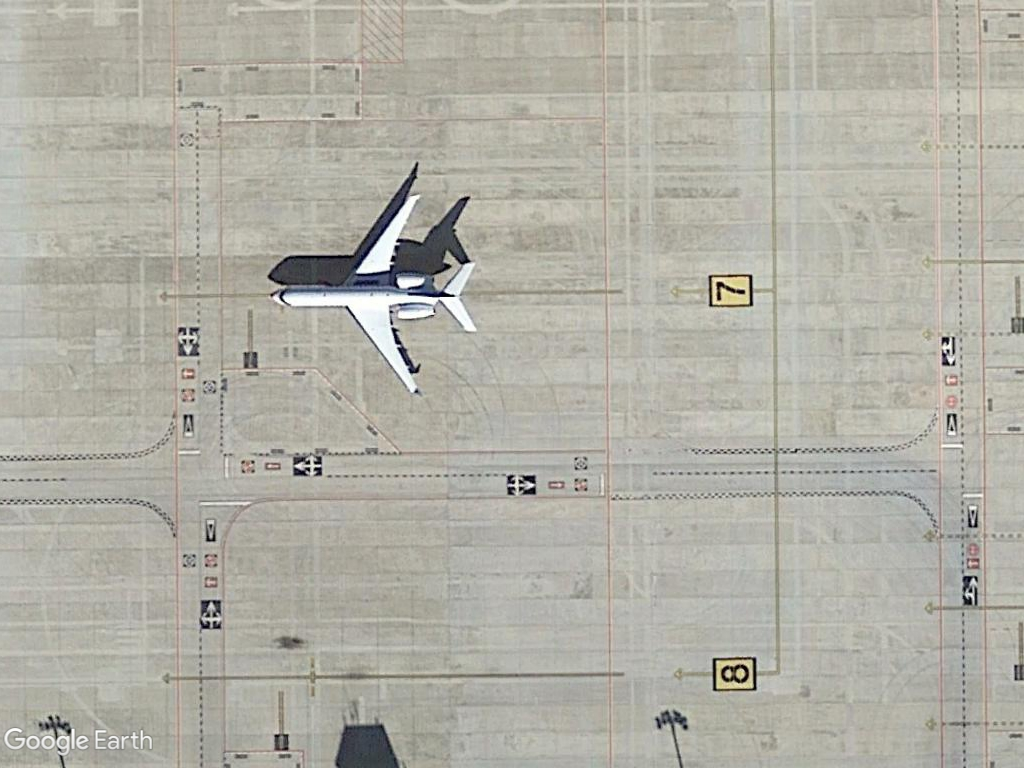chartered: (254, 179, 495, 401)
